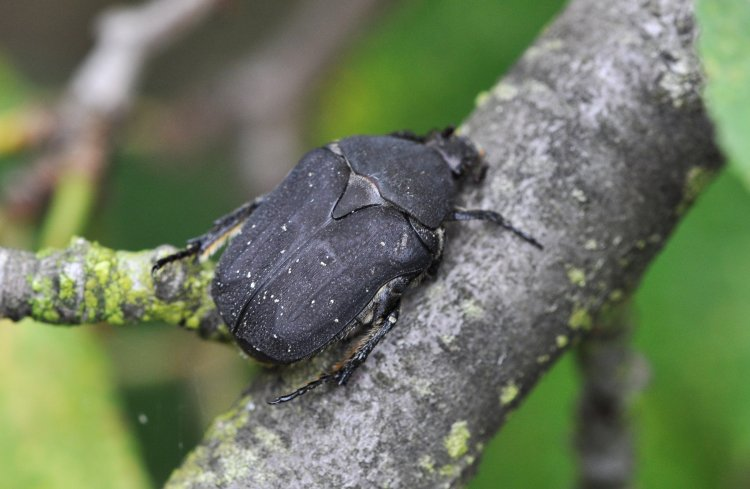Protaetia_morio_morio: (146, 114, 556, 409)
